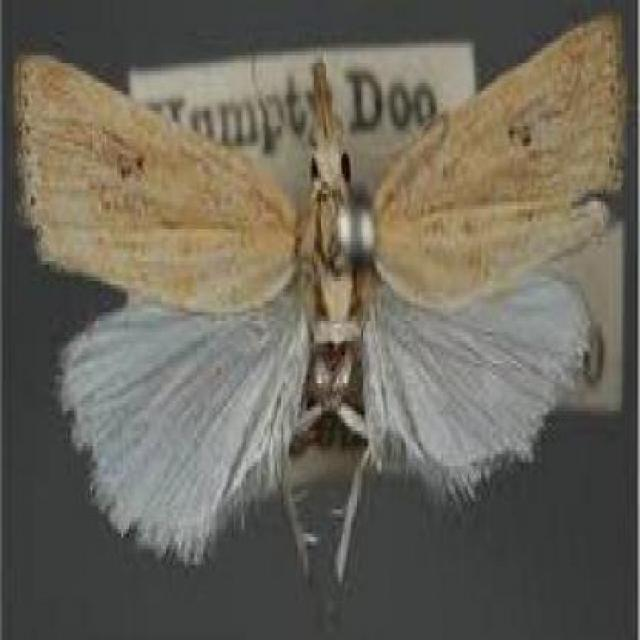stem-borer: (10, 7, 627, 594)
